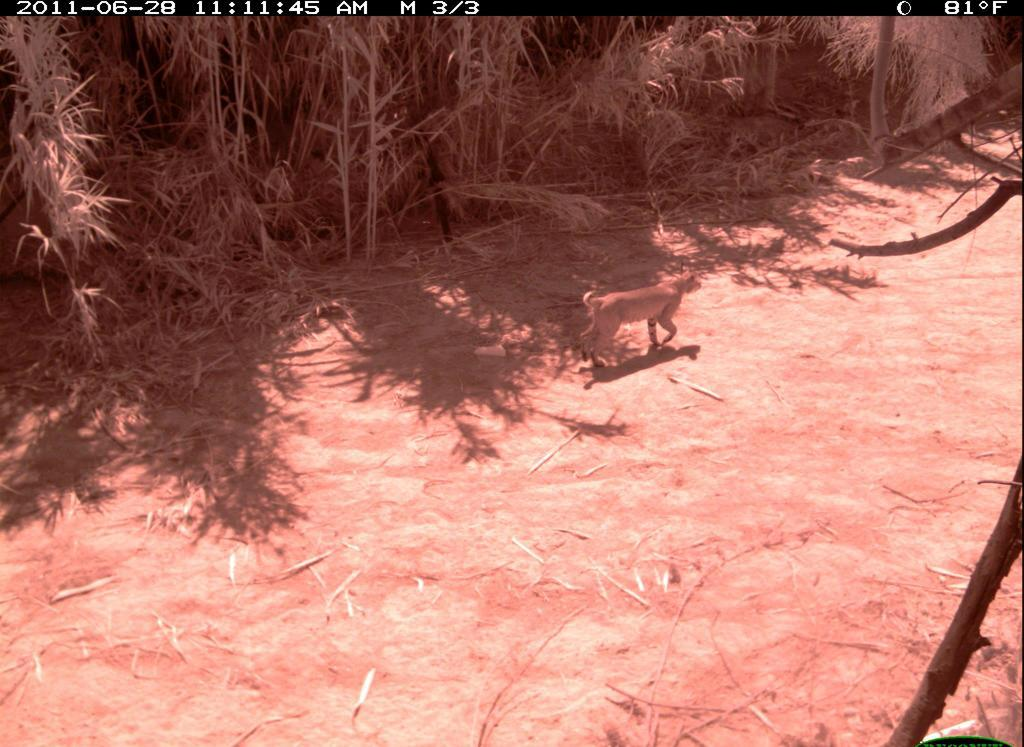bobcat: (575, 258, 710, 369)
